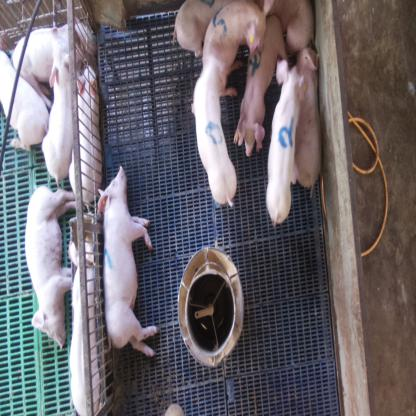4: (278, 117, 294, 149)
5: (212, 6, 228, 45)
7: (249, 52, 262, 76)
N-A: (204, 122, 223, 145)
